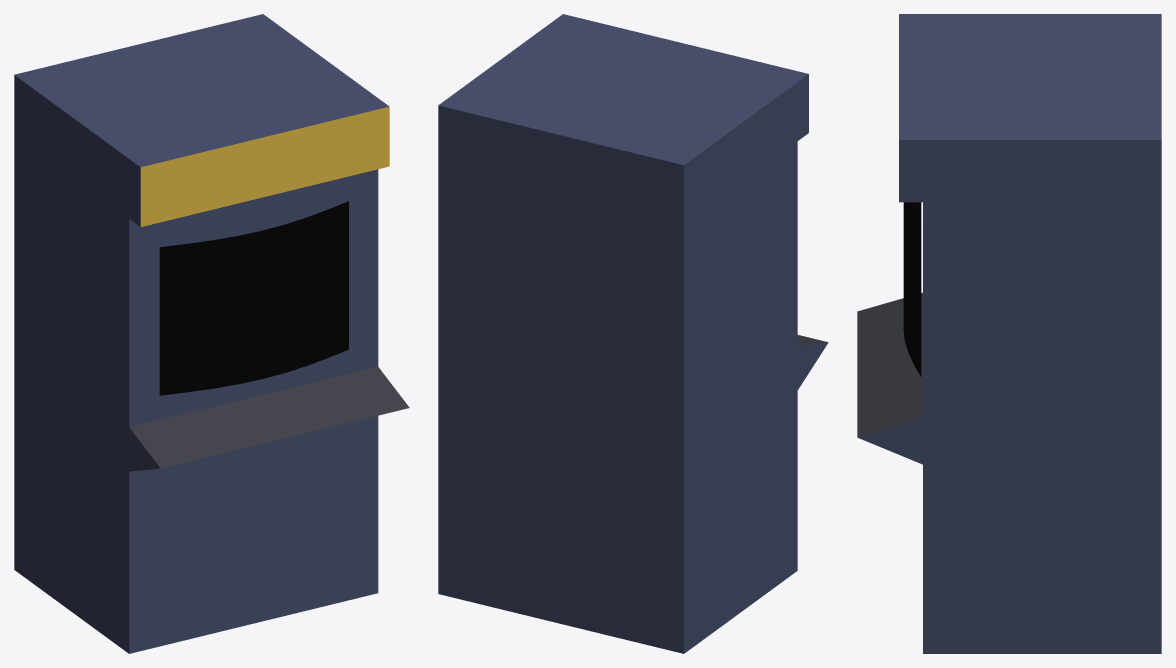
Rendered from cab.obj.
3 renders of one model, left to right at view 1: azimuth 30°, elevation 25°; view 2: azimuth 150°, elevation 25°; view 3: azimuth 270°, elevation 25°, orthographic. The views are drawn at different scales.
Bounding box in the file's own units: 1 × 1.9 × 1.02.
